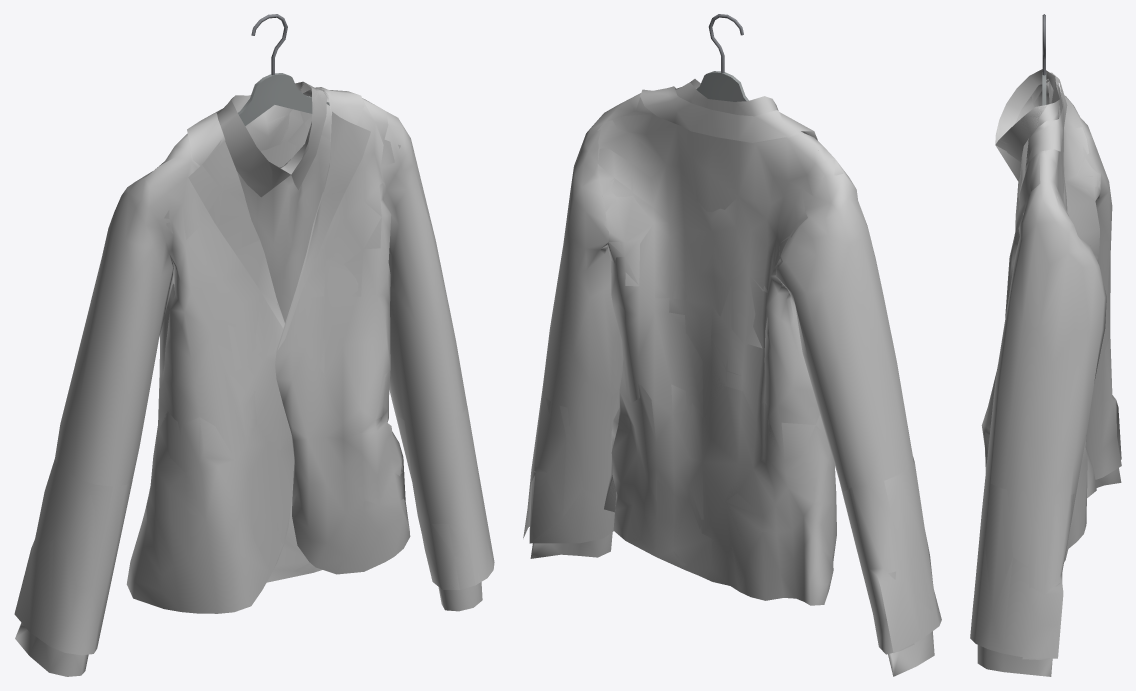
Rendered from suitjacket-2.FBX.
3 renders of one model, left to right at view 1: azimuth 30°, elevation 25°; view 2: azimuth 150°, elevation 25°; view 3: azimuth 270°, elevation 25°, orthographic. The views are drawn at different scales.
Visible parts, largest first — view 1: suitjacket-2_LOD0, _Hanger-5_LOD0; view 2: suitjacket-2_LOD0, _Hanger-5_LOD0; view 3: suitjacket-2_LOD0, _Hanger-5_LOD0.
Boxes of the visible parts, x1,y1,x2,y2 form: suitjacket-2_LOD0: (14, 81, 494, 676); _Hanger-5_LOD0: (238, 14, 329, 125); suitjacket-2_LOD0: (523, 79, 941, 676); _Hanger-5_LOD0: (696, 14, 748, 101); suitjacket-2_LOD0: (970, 69, 1121, 676); _Hanger-5_LOD0: (1042, 14, 1046, 105).
Size of what is drawn, in the model's own units: 55.78 by 18.21 by 76.04.
